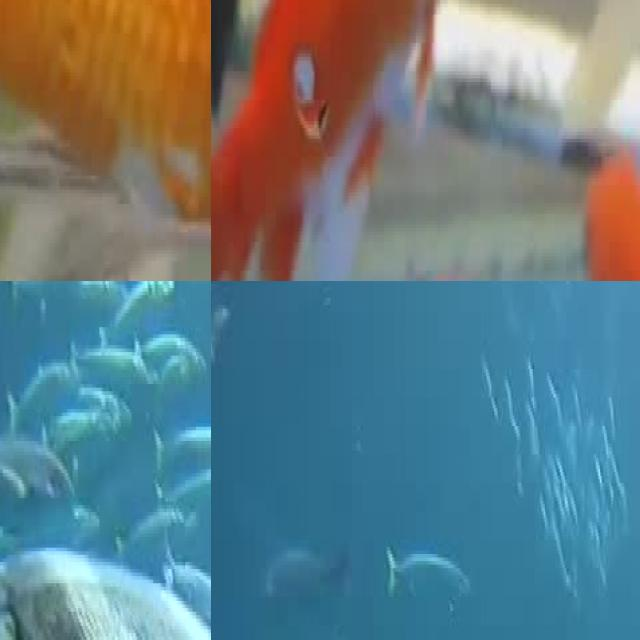fish: (0, 0, 211, 281), (324, 235, 551, 281)
